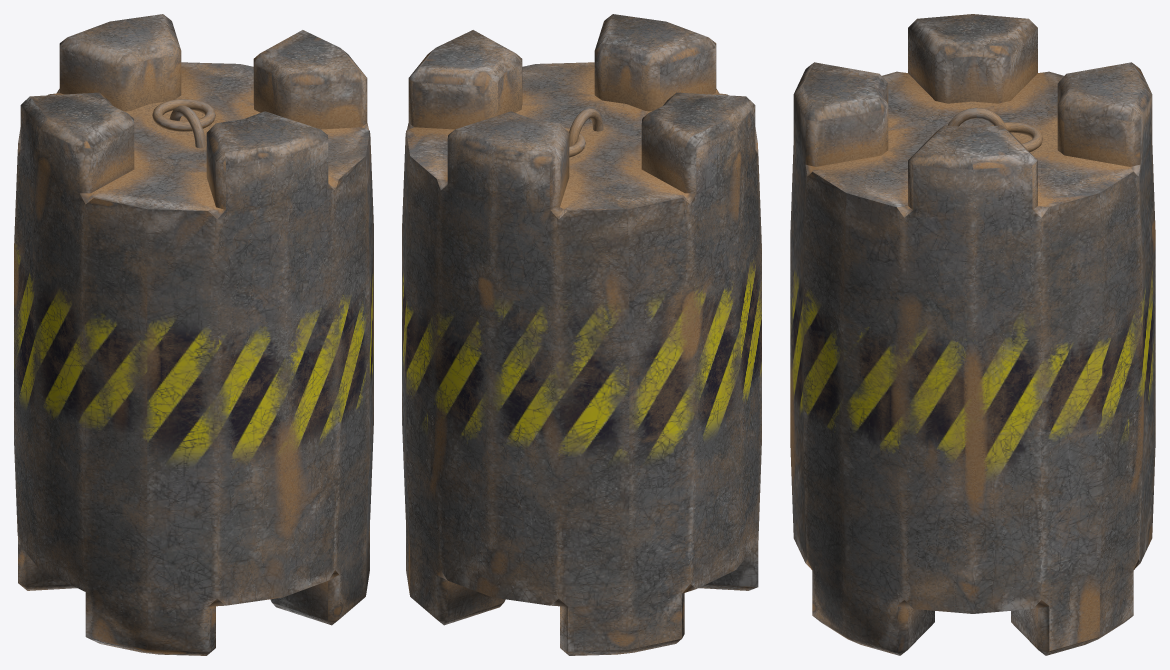
Rendered from Barrier_Cylinder.FBX.
3 renders of one model, left to right at view 1: azimuth 30°, elevation 25°; view 2: azimuth 150°, elevation 25°; view 3: azimuth 270°, elevation 25°, orthographic.
Visible parts, largest first — view 1: Cylinder001; view 2: Cylinder001; view 3: Cylinder001.
Boxes of the visible parts, left/top/right/bottom form: Cylinder001: left=14, top=14, right=373, bottom=655; Cylinder001: left=402, top=14, right=761, bottom=655; Cylinder001: left=790, top=14, right=1155, bottom=655.
Bounding box in the file's own units: 21.8 × 33.3 × 21.8.
1 material, 1 textured.
